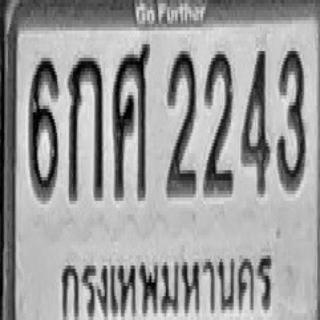A01: (68, 54, 103, 201)
A38: (112, 41, 149, 198)
N02: (166, 47, 196, 194), (203, 51, 232, 194)
N03: (277, 48, 305, 191)
N04: (240, 47, 270, 194)
N06: (29, 54, 58, 198)
P04: (57, 252, 276, 320)
